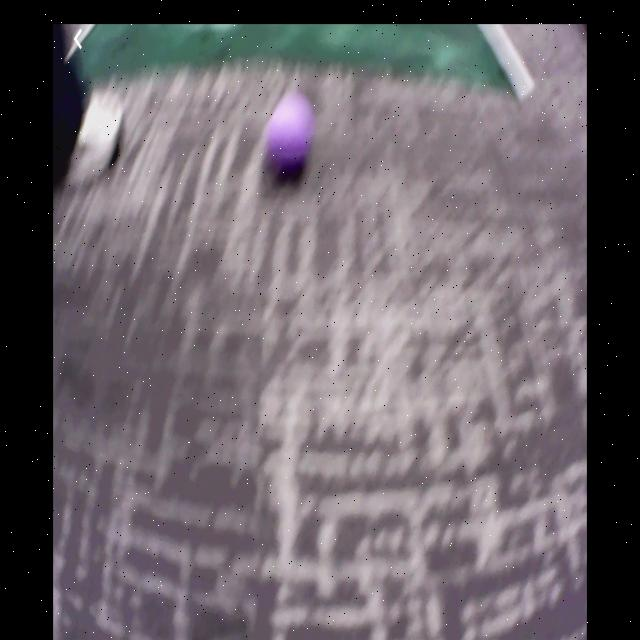ball: (269, 99, 315, 164)
